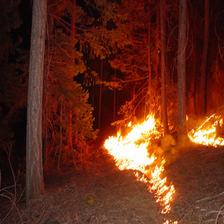fire: (97, 100, 220, 218)
